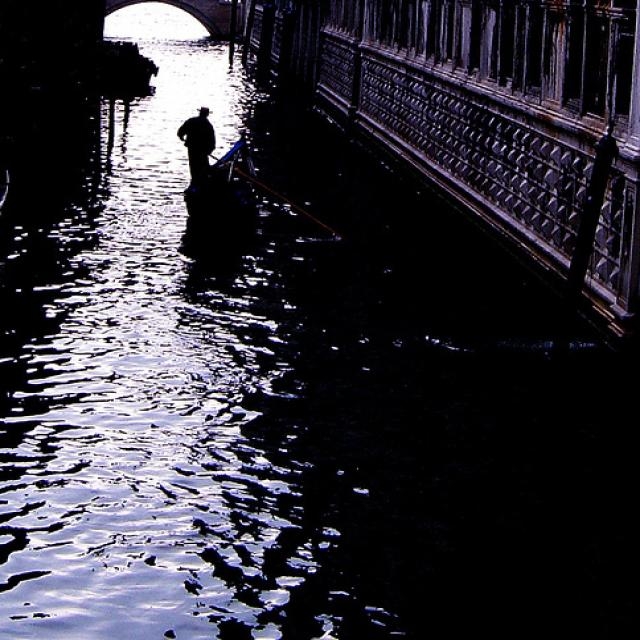Boat: (163, 176, 306, 266)
People: (173, 91, 235, 171)
